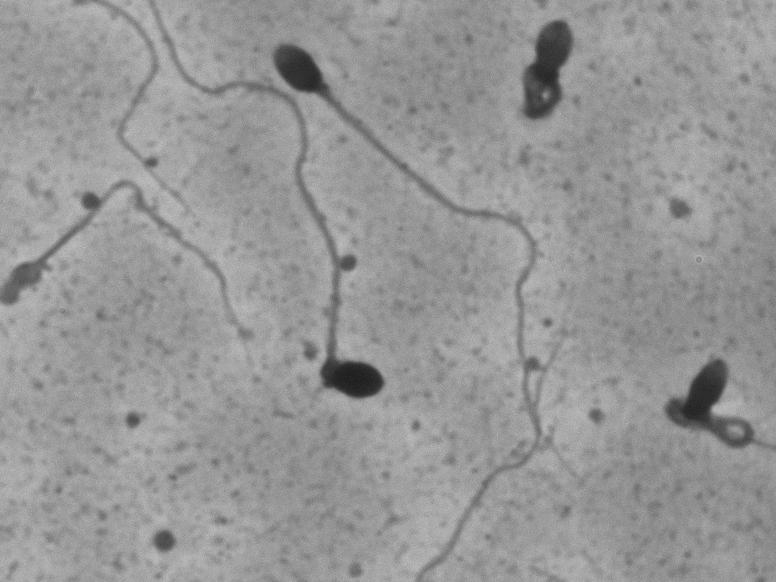Abnormal: (250, 165, 391, 469), (655, 306, 763, 486), (481, 8, 600, 148)
Normal: (233, 14, 612, 507)
